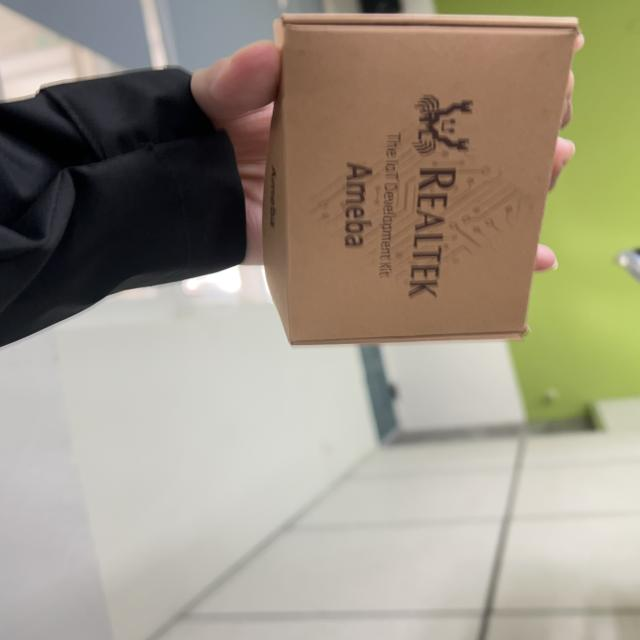box: (239, 6, 586, 368)
